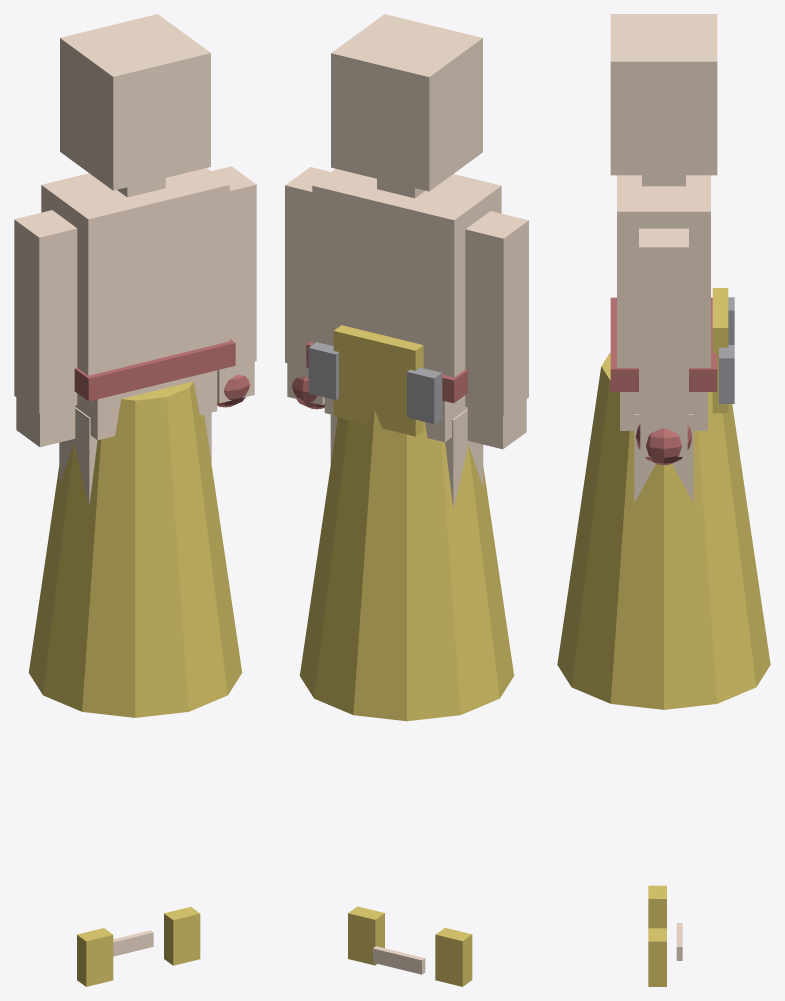
Rendered from aphrodite.glb.
The picture shows the model from 3 angles, left to right: view 1: azimuth 30°, elevation 25°; view 2: azimuth 150°, elevation 25°; view 3: azimuth 270°, elevation 25°; orthographic projection.
Parts seen in each view (by area): view 1: outfit_robe_0, torso, head, arm_L_upper, arm_R_upper, outfit_belt_0, hips, arm_L_hand, outfit_sandals_1, outfit_sandals_0, leg_L_shin, arm_R_hand (+2 smaller); view 2: outfit_robe_0, torso, head, arm_L_upper, outfit_robe_1, arm_R_upper, arm_L_hand, outfit_sandals_0, outfit_belt_2, outfit_sandals_1, leg_L_shin, outfit_belt_1 (+4 smaller); view 3: outfit_robe_0, head, torso, arm_R_upper, outfit_belt_0, leg_R_shin, outfit_robe_1, hips, prop, outfit_sandals_1, outfit_belt_1, outfit_sandals_0 (+2 smaller).
Part boxes in pixels (x1,y1,x2,y2): outfit_robe_0: (28,381,242,717); torso: (41,168,229,375); head: (60,14,210,190); arm_L_upper: (14,210,77,413); arm_R_upper: (211,166,256,369); outfit_belt_0: (74,339,235,401); hips: (75,370,217,440); arm_L_hand: (16,397,75,447); outfit_sandals_1: (164,907,200,965); outfit_sandals_0: (77,928,113,986); leg_L_shin: (59,407,97,506); arm_R_hand: (217,361,254,403); outfit_robe_0: (299,410,514,721); torso: (312,168,501,377); head: (331,14,482,191); arm_L_upper: (465,211,528,415); outfit_robe_1: (333,325,423,436); arm_R_upper: (285,167,330,368); arm_L_hand: (467,399,526,449); outfit_sandals_0: (435,927,472,986); outfit_belt_2: (407,367,442,423); outfit_sandals_1: (348,906,384,965); leg_L_shin: (445,409,483,509); outfit_belt_1: (308,342,338,399); outfit_robe_0: (557,352,770,709); head: (610,14,717,175); torso: (617,175,710,367); arm_R_upper: (639,228,688,423); outfit_belt_0: (610,297,717,391); leg_R_shin: (634,414,693,502); outfit_robe_1: (712,288,728,413); hips: (620,392,707,430); prop: (636,424,691,465); outfit_sandals_1: (648,928,666,986); outfit_belt_1: (719,345,734,403); outfit_sandals_0: (648,885,666,928).
Size of the model in its own units: 0.82 by 3.24 by 0.68.
